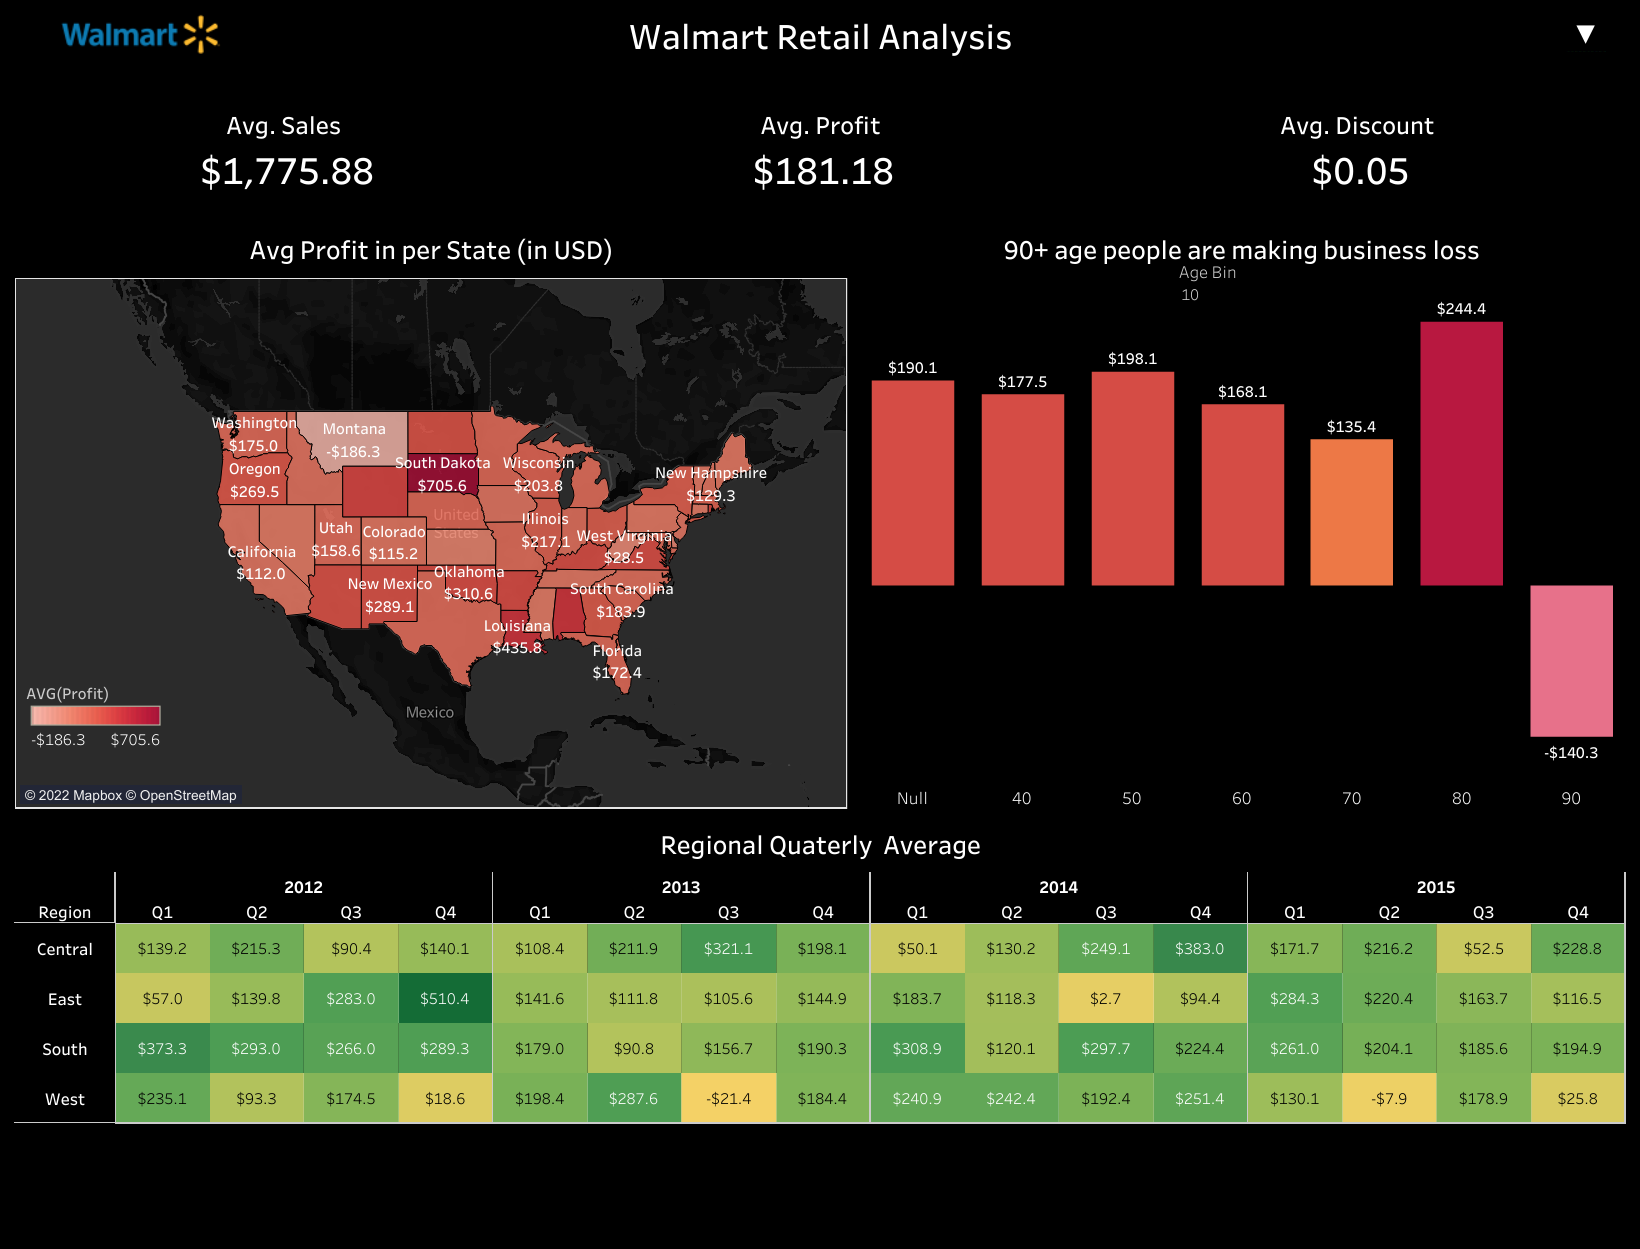

Layout of this report page (visuals, bound fields, positions):
{"tool":"tableau","page":{"name":"Dashboard 1","canvas":[1313,1000],"ordinal":0},"visuals":[{"type":"worksheet","title":"Dataset Info","mark":"Shape","box":[1253,0,31,40]},{"type":"text","box":[8,8,1297,39]},{"type":"image","param":"Image/Walmart-logo.png","box":[44,9,145,37]},{"type":"blank","box":[8,47,1297,32]},{"type":"worksheet","title":"Average Measures","mark":"Automatic","box":[8,79,1297,96]},{"type":"worksheet","title":"State vs Profit","mark":"Multipolygon","box":[8,175,674,476.4]},{"type":"worksheet","title":"Age Vs Profit","mark":"Automatic","rows":["Profit"],"cols":["Customer Age (bin)"],"box":[682,175,623,476.4]},{"type":"parameter","param":"[Parameters].[Parameter 1]","box":[943,206.4,95,56.4]},{"type":"legend","title":"State vs Profit","param":"[federated.0oiqs6l0v8br3t14ngwt11o7wdlc].[avg:Profit:qk]","box":[20.8,540.5,112.2,81.1]},{"type":"worksheet","title":"Regional Profit","mark":"Square","rows":["Region"],"cols":["Order Date","Order Date"],"box":[8,651.4,1297,340.6]}]}

Visuals, with their boxes in screenshot pixels (x1, y1, x2, y2), scaled from the page's 1313x1000 canvas onto the 1640x1249 screenshot:
"Dataset Info" worksheet (Shape marks): <region>1565, 0, 1604, 50</region>
text: <region>10, 10, 1630, 59</region>
image: <region>55, 11, 236, 57</region>
blank: <region>10, 59, 1630, 99</region>
"Average Measures" worksheet: <region>10, 99, 1630, 219</region>
"State vs Profit" worksheet (Multipolygon marks): <region>10, 219, 852, 814</region>
"Age Vs Profit" worksheet: <region>852, 219, 1630, 814</region>
parameter: <region>1178, 258, 1297, 328</region>
"State vs Profit" legend: <region>26, 675, 166, 776</region>
"Regional Profit" worksheet (Square marks): <region>10, 814, 1630, 1239</region>
